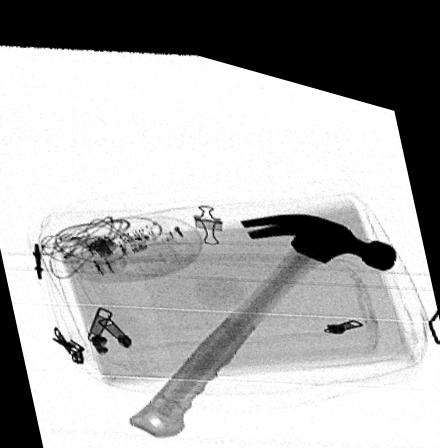Hammer: (127, 195, 398, 429)
